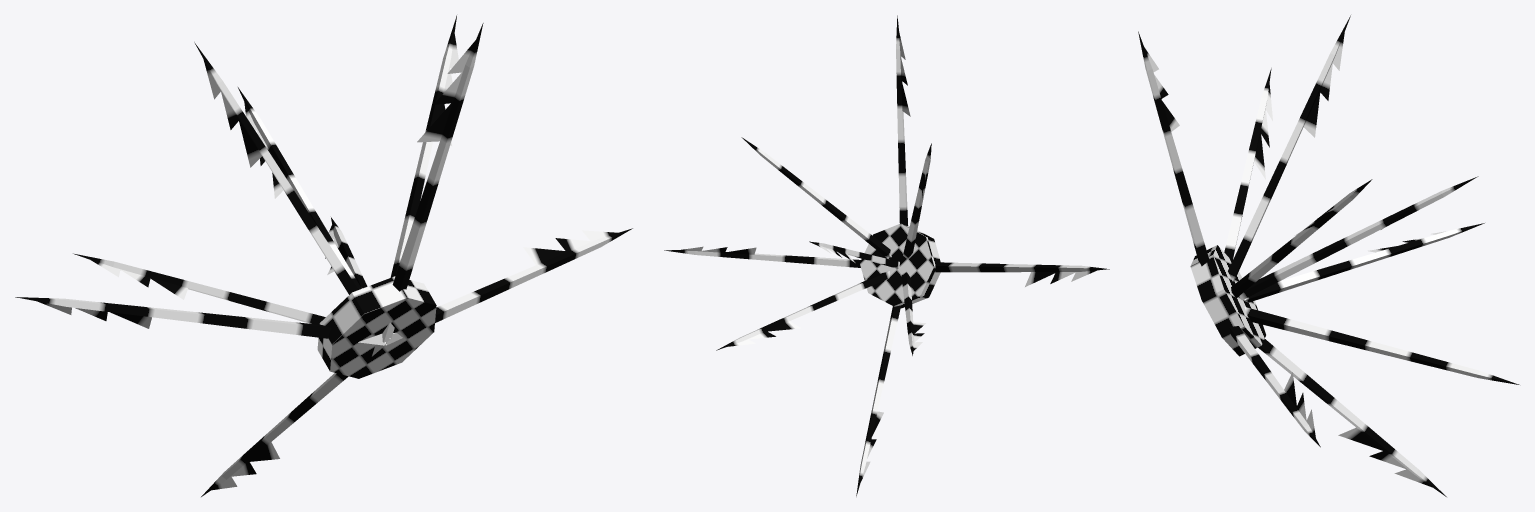
The model's file is initqi23.dae.
3 renders of one model, left to right at view 1: azimuth 30°, elevation 25°; view 2: azimuth 150°, elevation 25°; view 3: azimuth 270°, elevation 25°, orthographic. The views are drawn at different scales.
Visible parts, largest first — view 1: item; view 2: item; view 3: item.
Part boxes in pixels (x1,y1,x2,y2): item: [15, 15, 632, 496]; item: [664, 15, 1109, 496]; item: [1138, 15, 1519, 496].
Bounding box in the file's own units: 1.52 × 0.87 × 1.29.
Materials: 1 (1 with a texture image).
